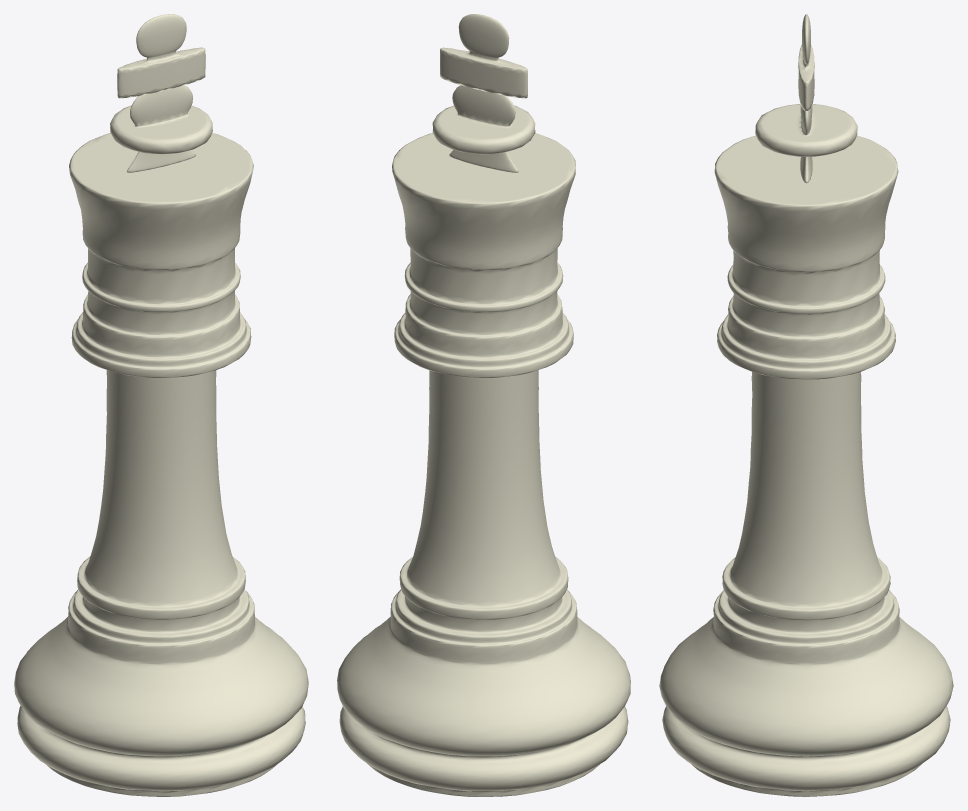
3 renders of one model, left to right at view 1: azimuth 30°, elevation 25°; view 2: azimuth 150°, elevation 25°; view 3: azimuth 270°, elevation 25°, orthographic.
Visible parts, largest first — view 1: King_02_2; view 2: King_02_2; view 3: King_02_2.
Boxes of the visible parts, <box> form: King_02_2: <box>14,14,308,796</box>; King_02_2: <box>337,14,630,796</box>; King_02_2: <box>659,14,953,796</box>.
Size of the model in its own units: 0.3345 by 0.9105 by 0.3345.
